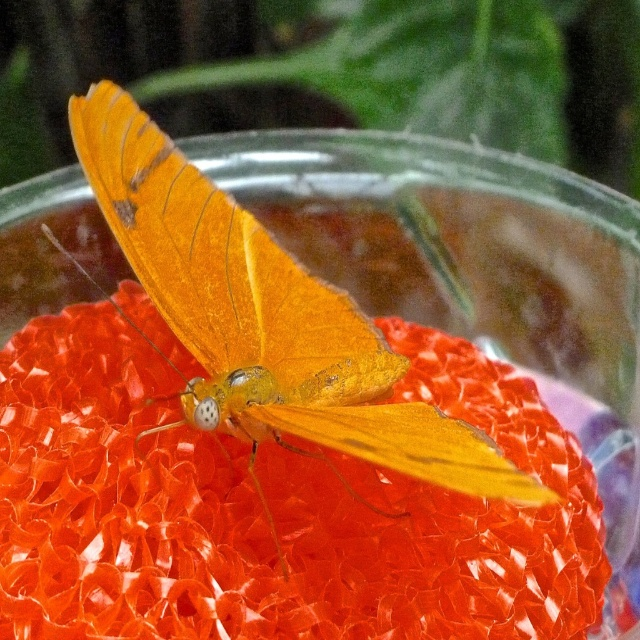Butterfly: (44, 52, 552, 640)
